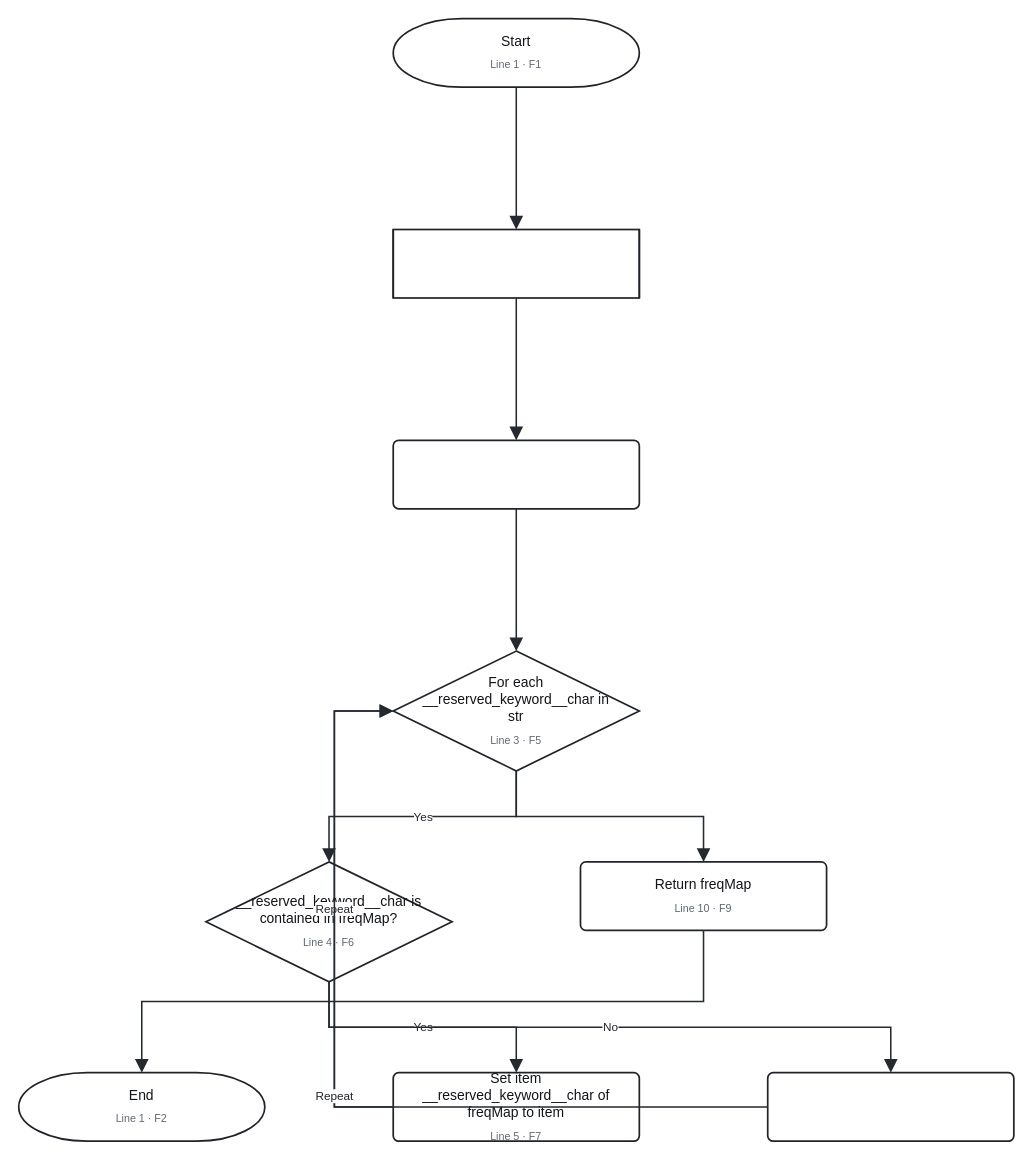
Some shapes in this 1034 by 1163 pixel diagram are drawn without their labels. The shapes that lost their labels are listed below. From the top down, each one's centre as x and y in pixels, then its label:
pixel 516 263: Run function charFrequency with str Line 1 · F3
pixel 516 474: Set freqMap to an empty dictionary Line 2 · F4
pixel 890 1106: Set item __reserved_keyword__char of freqMap to 1 Line 7 · F8
